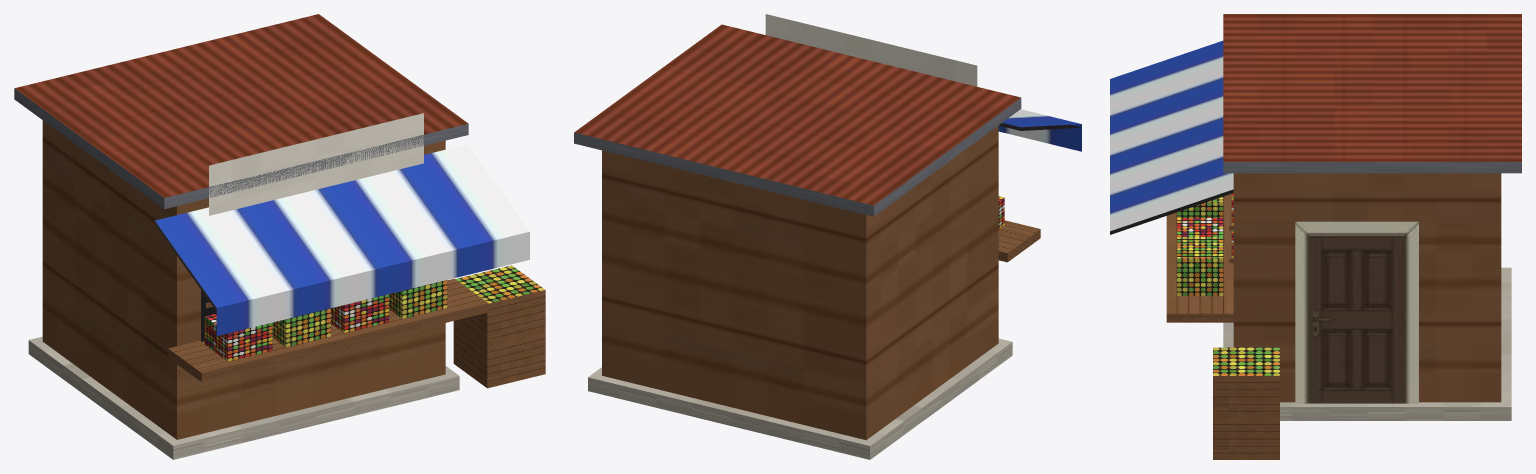
Rendered from kiosk-blue-far.glb.
3 renders of one model, left to right at view 1: azimuth 30°, elevation 25°; view 2: azimuth 150°, elevation 25°; view 3: azimuth 270°, elevation 25°, orthographic.
Visible parts, largest first — view 1: kiosk-blue-far, sign_1; view 2: kiosk-blue-far, sign_1; view 3: kiosk-blue-far.
Boxes of the visible parts, x1=… form: kiosk-blue-far: x1=14, y1=14, x2=545, y2=459; sign_1: x1=209, y1=113, x2=423, y2=215; kiosk-blue-far: x1=574, y1=24, x2=1081, y2=459; sign_1: x1=765, y1=14, x2=977, y2=86; kiosk-blue-far: x1=1110, y1=14, x2=1521, y2=459.
Size of the model in its own units: 4.25 by 3.05 by 4.
1 material, 1 textured.
